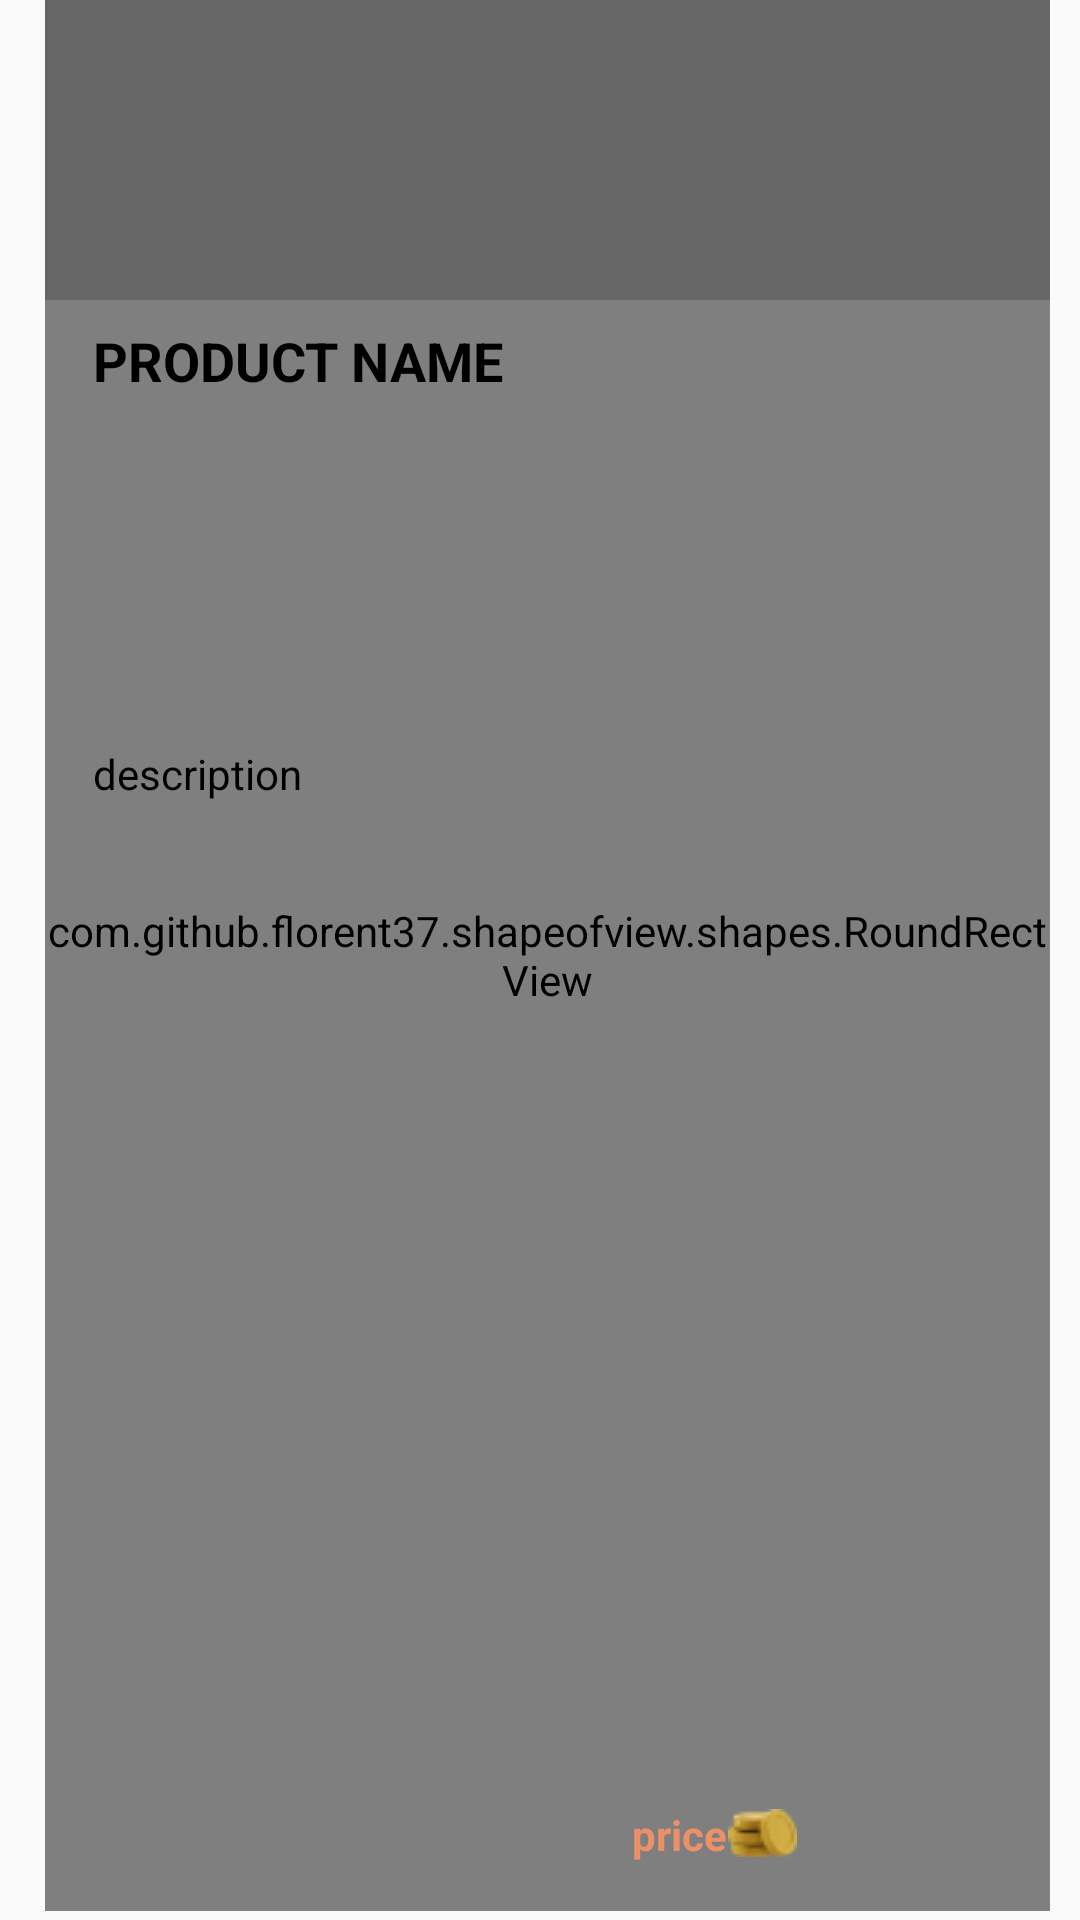

Screen size 1080*1920. Icon name, then its box in pixels as (x1, y1, x2, y2):
ccoins: (728, 1809, 797, 1857)
